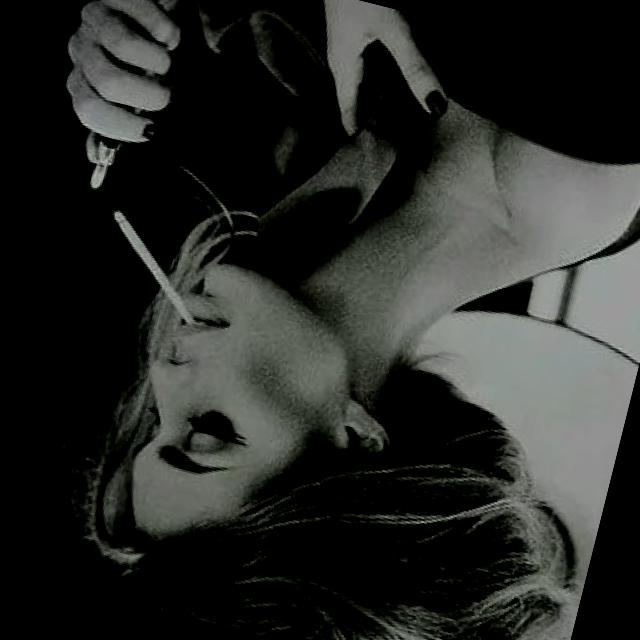smoke: (84, 195, 224, 332)
